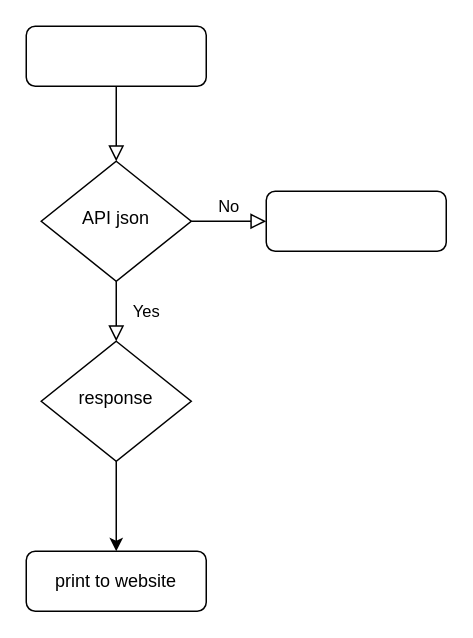
This 473x638 diagram has some shape labels left out. Here are the shapes that lost their labels. From the top down, the centre of each, then its label:
point (115, 55): request
point (355, 220): Error
